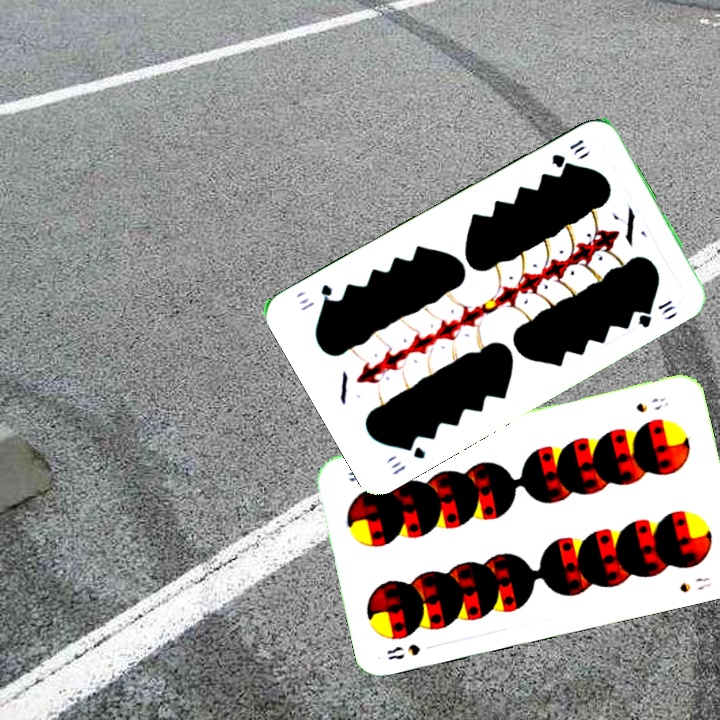G10: (386, 437, 429, 478), (547, 135, 590, 171)
S8: (382, 640, 423, 663), (632, 393, 671, 415)
